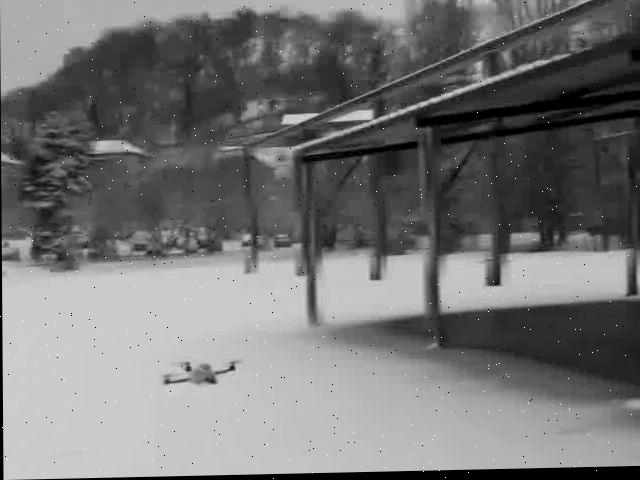drone: (2, 377, 640, 480)
